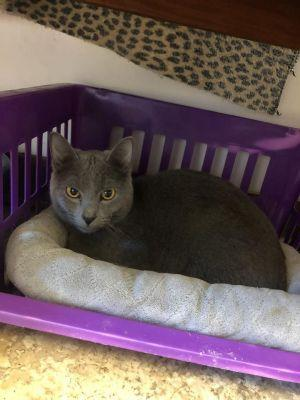rblue: (40, 126, 148, 241)
